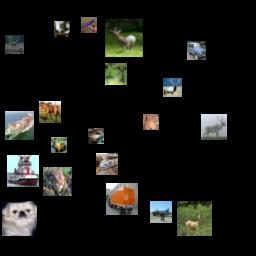airplane: (150, 201, 172, 223), (81, 17, 97, 33)
automobile: (96, 153, 118, 175), (187, 41, 206, 60), (88, 128, 104, 144)
bird: (54, 21, 70, 37)
deer: (105, 19, 143, 57), (177, 201, 212, 236), (201, 114, 227, 140), (105, 63, 127, 85), (163, 78, 182, 97), (5, 35, 24, 54), (51, 137, 67, 153)
dog: (2, 201, 37, 236)
frog: (43, 167, 72, 196), (143, 114, 159, 130)
ship: (7, 155, 39, 187), (5, 111, 34, 140)
truck: (106, 183, 138, 215)
